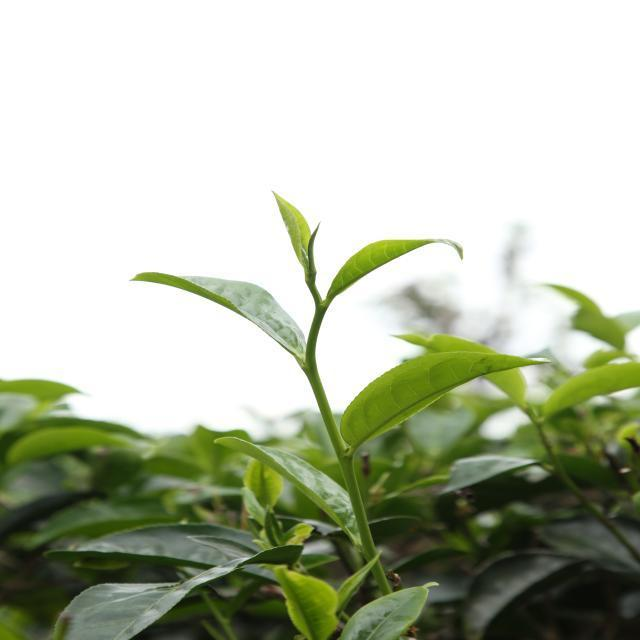Stem: (302, 365, 328, 403), (536, 424, 551, 448)
